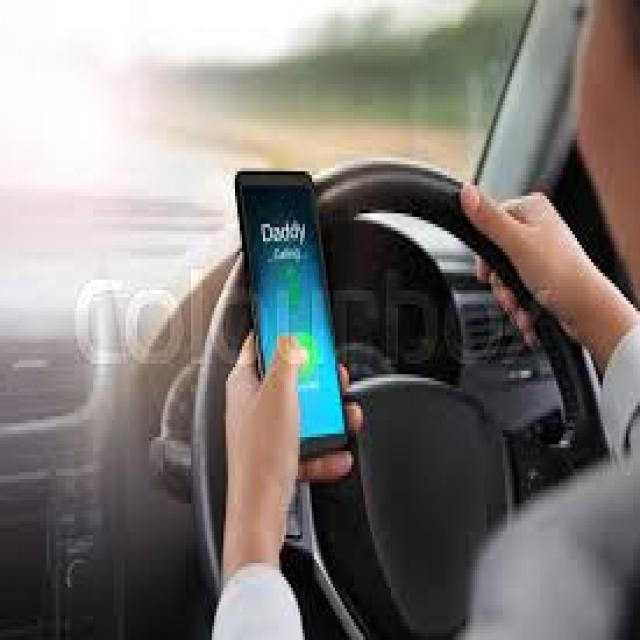Cellphone_texting: (200, 157, 356, 538)
